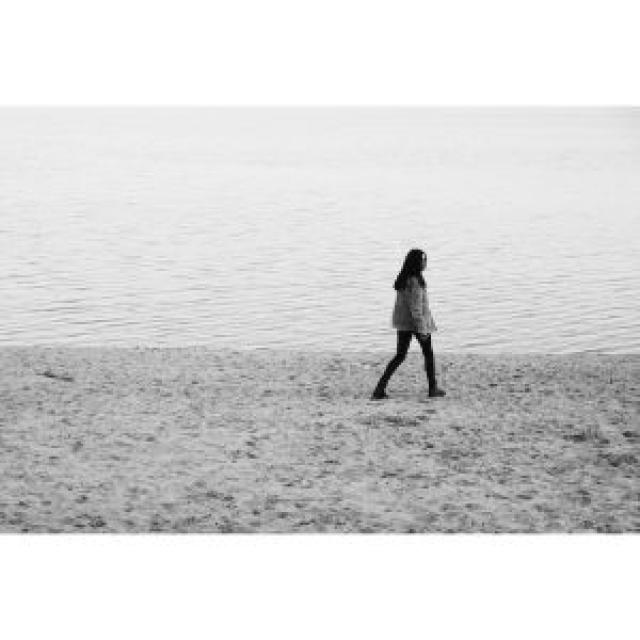nonfall: (372, 249, 457, 411)
